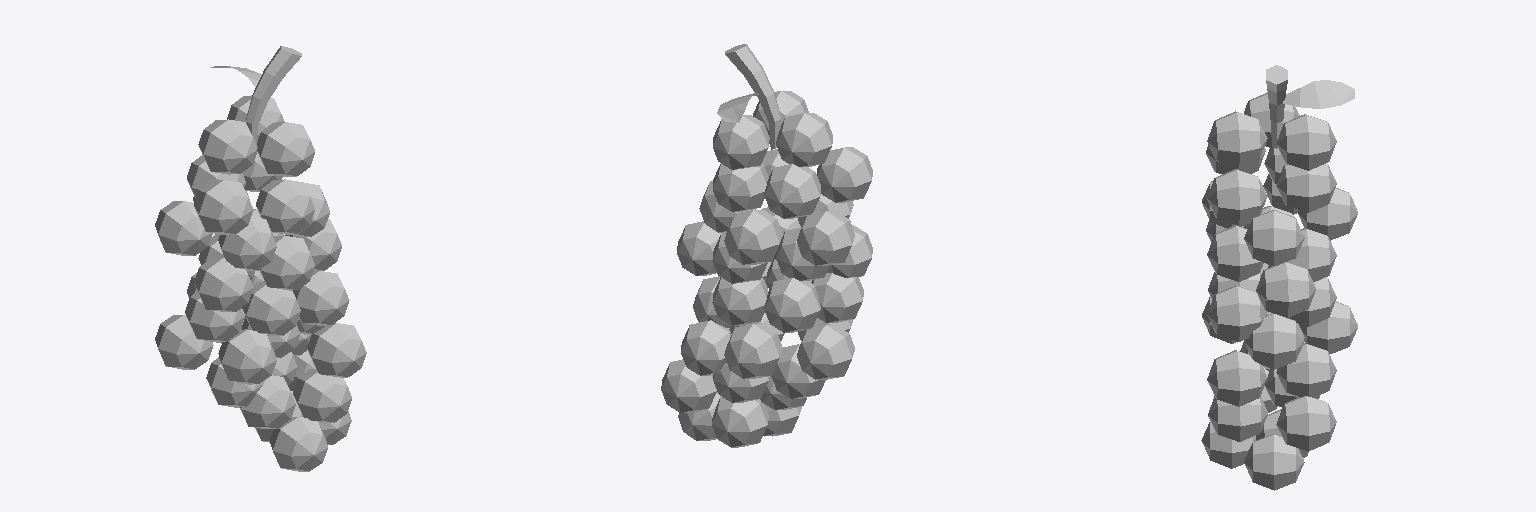
The model's file is grapes.obj.
The picture shows the model from 3 angles: view 1: azimuth 30°, elevation 25°; view 2: azimuth 150°, elevation 25°; view 3: azimuth 270°, elevation 25°; orthographic projection.
Visible parts, largest first — view 1: Grapes; view 2: Grapes; view 3: Grapes.
Boxes of the visible parts, <box> form: Grapes: <box>155,46,366,471</box>; Grapes: <box>661,44,872,447</box>; Grapes: <box>1201,65,1357,490</box>.
Size of the model in its own units: 0.3485 by 0.7406 by 0.26.